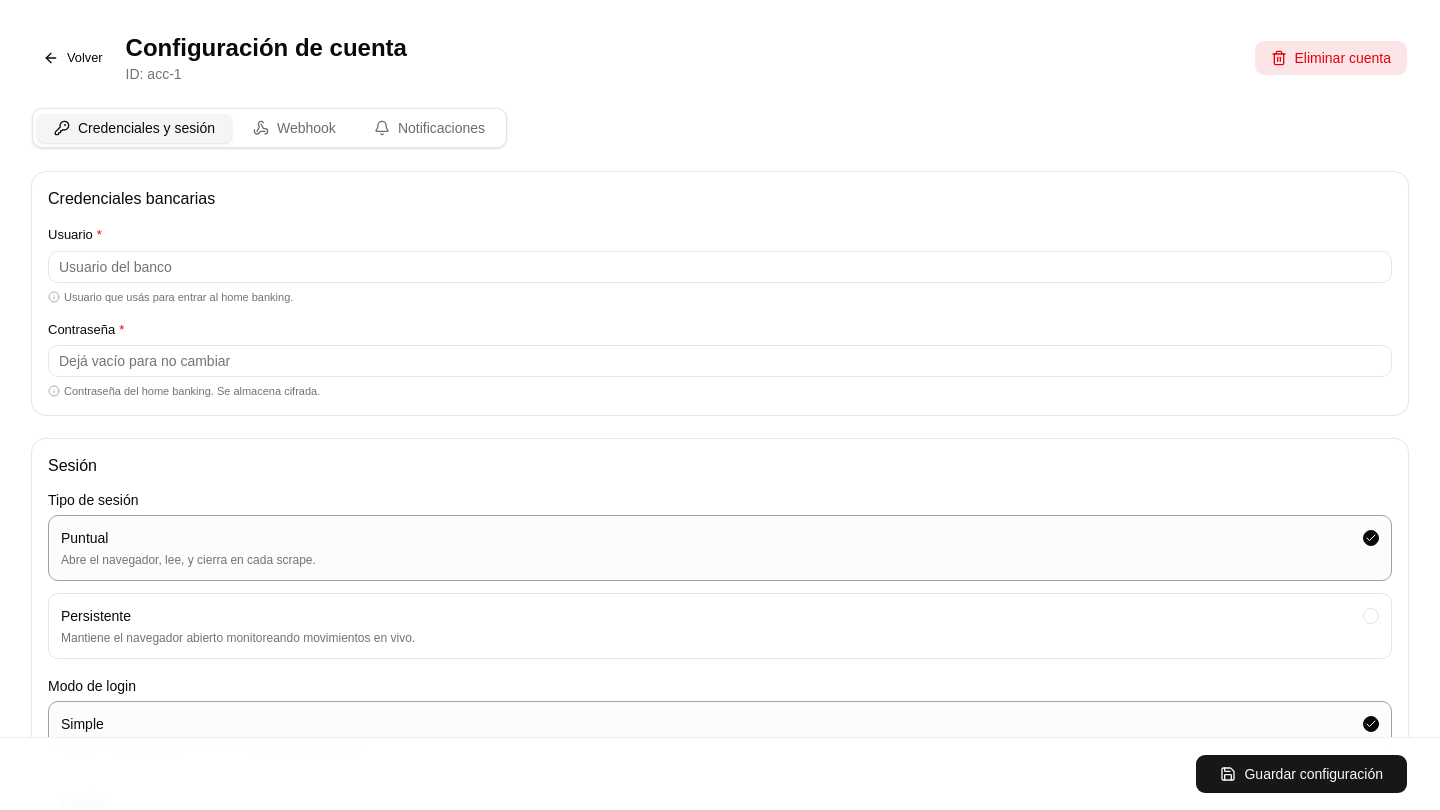
Test case: AccountConfig page › blocks Save when required fields are missing and shows inline errors
Expected: the heading "Configuración de cuenta" is shown, [126, 32, 407, 64]
Click the button "Guardar configuración".
click(1302, 774)  # box [1196, 754, 1408, 794]
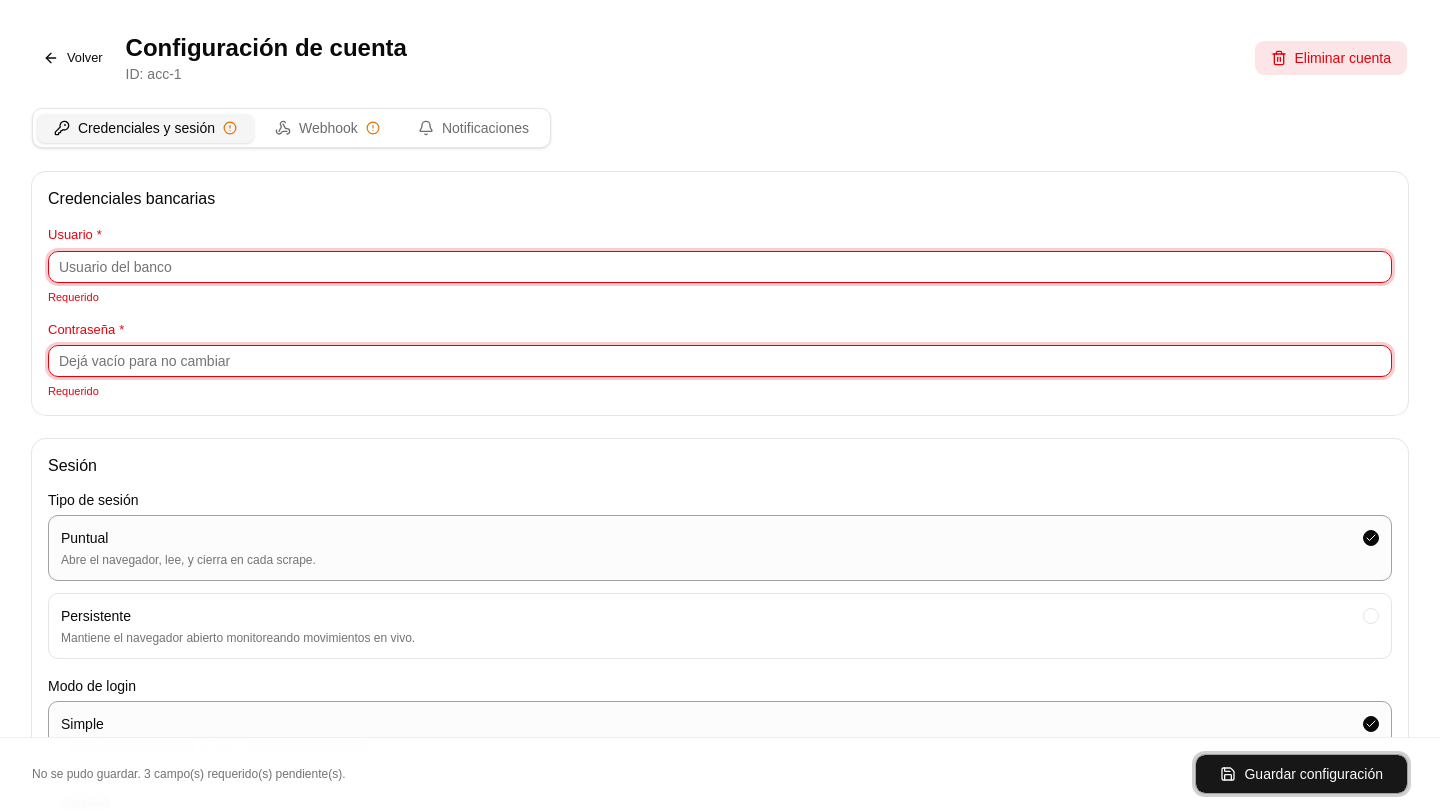
Now the text "Requerido" below "Usuario" is shown, box [48, 291, 99, 303]
